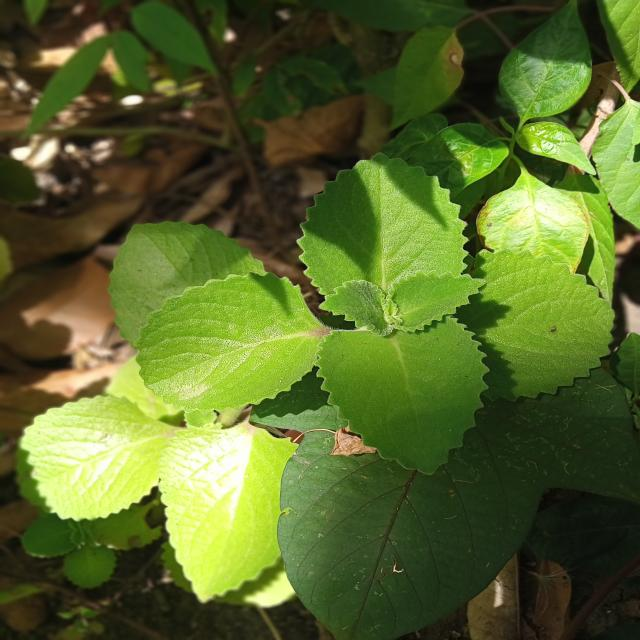Oregano: (134, 159, 623, 457)
